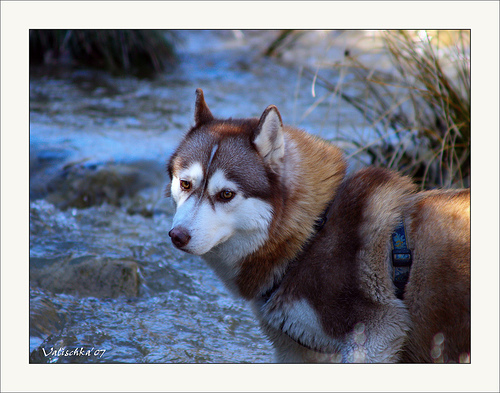dog: (165, 85, 472, 362)
